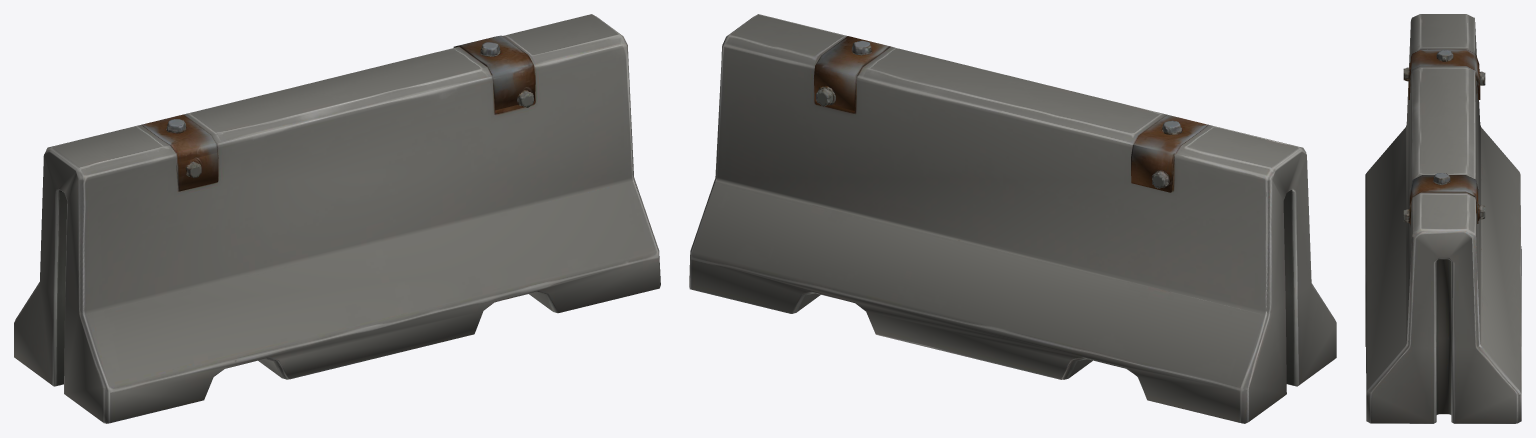
Rendered from selected.glb.
3 renders of one model, left to right at view 1: azimuth 30°, elevation 25°; view 2: azimuth 150°, elevation 25°; view 3: azimuth 270°, elevation 25°, orthographic. The views are drawn at different scales.
Visible parts, largest first — view 1: tripo_node_1f871713-8f60-4d32-a01a-0c18d437ea2c; view 2: tripo_node_1f871713-8f60-4d32-a01a-0c18d437ea2c; view 3: tripo_node_1f871713-8f60-4d32-a01a-0c18d437ea2c.
Boxes of the visible parts, x1=… form: tripo_node_1f871713-8f60-4d32-a01a-0c18d437ea2c: x1=14, y1=14, x2=660, y2=423; tripo_node_1f871713-8f60-4d32-a01a-0c18d437ea2c: x1=689, y1=14, x2=1336, y2=423; tripo_node_1f871713-8f60-4d32-a01a-0c18d437ea2c: x1=1365, y1=14, x2=1521, y2=423.
Bounding box in the file's own units: 0.998 × 0.4121 × 0.2949.
Materials: 1 (1 with a texture image).
